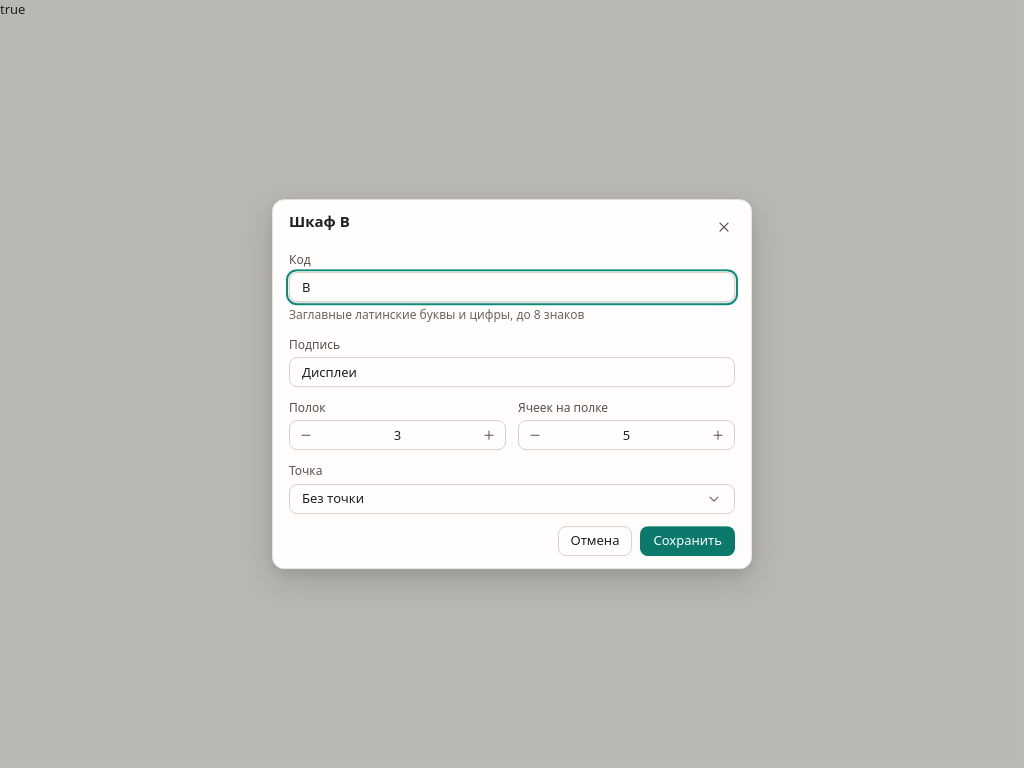
Scenario: RackDialog › shows the refusal of an occupied rack
This screenshot has width=1024, height=768.
Replace the text in the field labelled "Подпись" with "Х": (512, 372) [302,358,722,386]
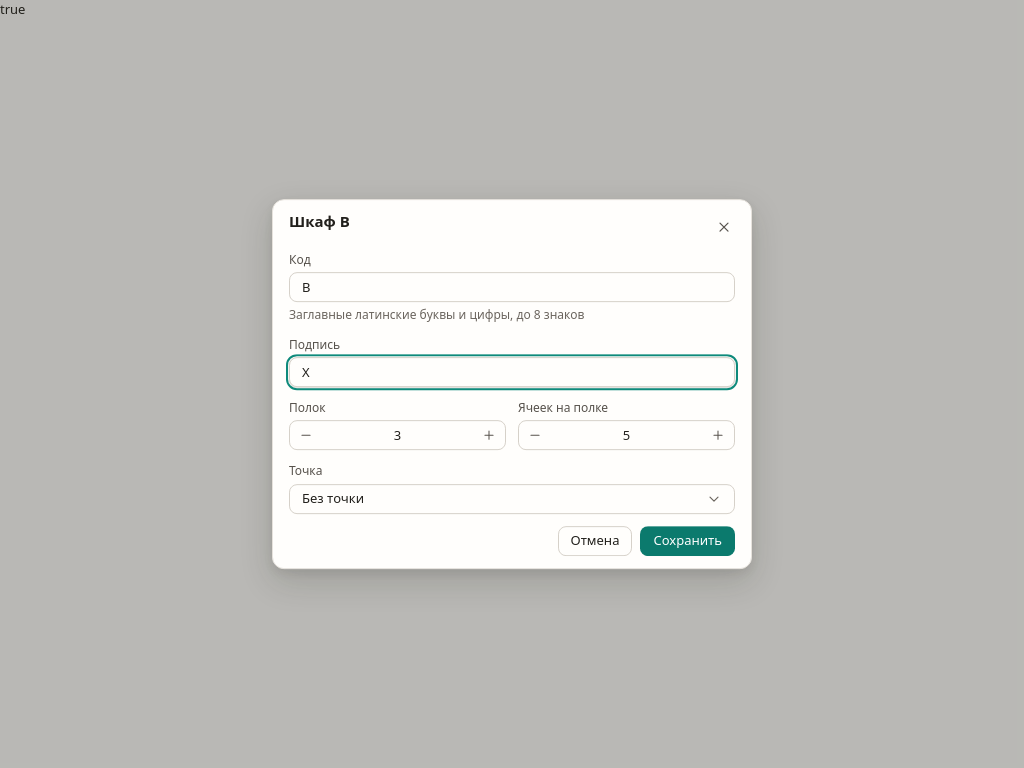
Click the button "Сохранить": click(688, 541) [640,526,735,556]
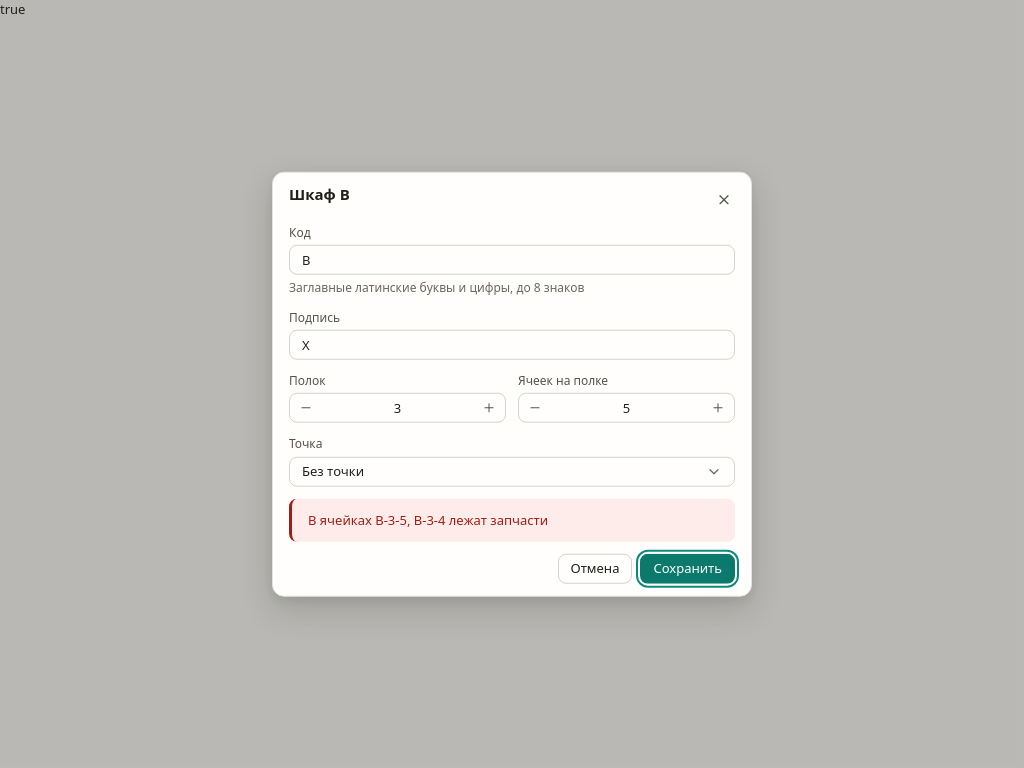
Expected: the dialog is shown, [272,172,752,596]
Result: the message reads "В ячейках B-3-5, B-3-4 лежат запчасти" at [308,510,548,528]
